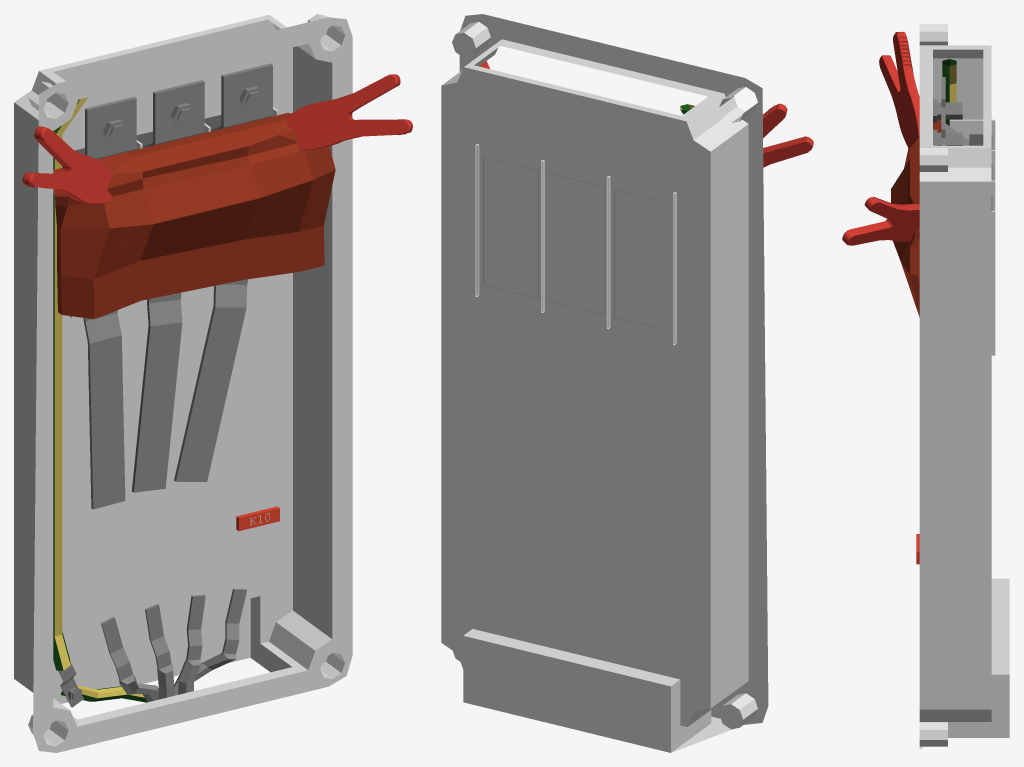
File: Main-Distributor-V001-11-with-blanket.fbx
3 views of the same model, side by side, from view 1: azimuth 30°, elevation 25°; view 2: azimuth 150°, elevation 25°; view 3: azimuth 270°, elevation 25° (orthographic). The views are drawn at different scales.
Parts seen in each view (by area): view 1: 000-box, Safety-blanket, 07-cables, 007-box.001, tagname.K10; view 2: 000-box, Safety-blanket; view 3: 000-box, Safety-blanket.
Part boxes in pixels (box(x1,y1,x2,y2)): 000-box: box(14, 14, 352, 752); Safety-blanket: box(22, 74, 412, 319); 07-cables: box(101, 588, 246, 701); 007-box.001: box(61, 685, 147, 702); tagname.K10: box(236, 506, 279, 530); 000-box: box(441, 14, 768, 752); Safety-blanket: box(479, 61, 813, 167); 000-box: box(919, 24, 1009, 750); Safety-blanket: box(842, 31, 941, 316).
Bounding box in the file's own units: 231 × 404 × 99.08.
